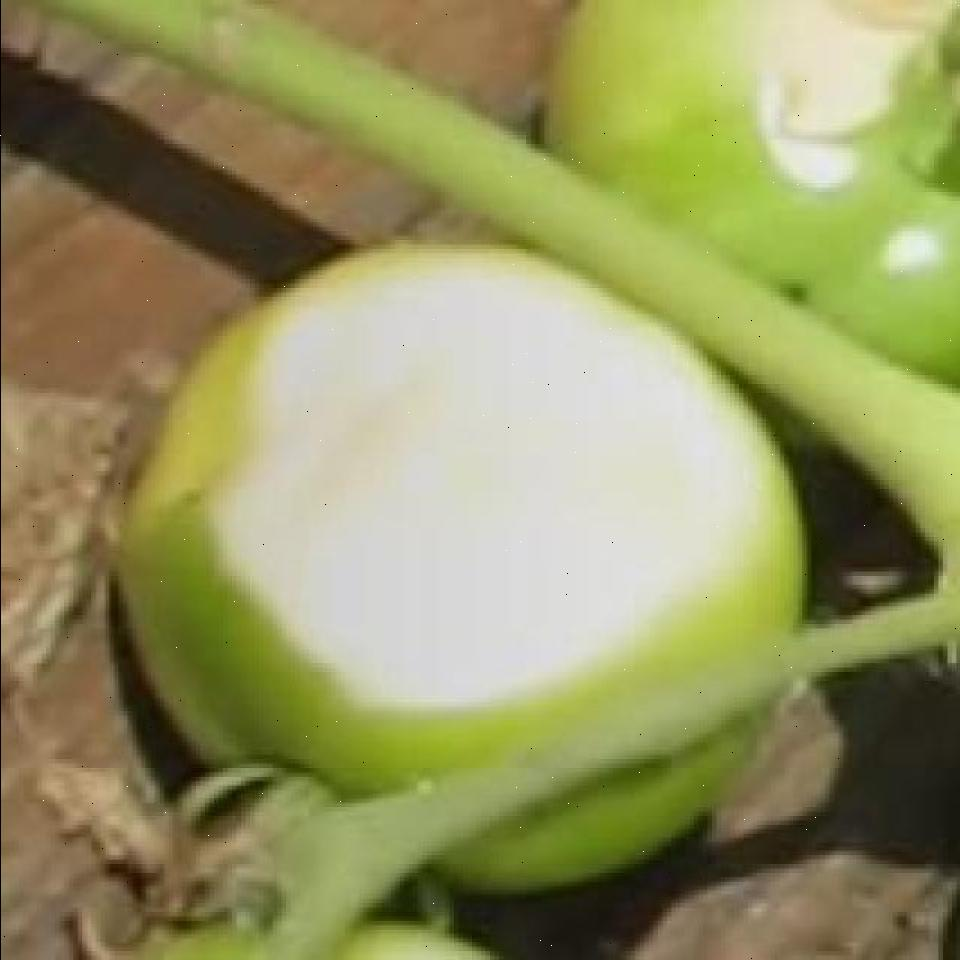Sunscald: (172, 246, 784, 710), (736, 0, 954, 196)
